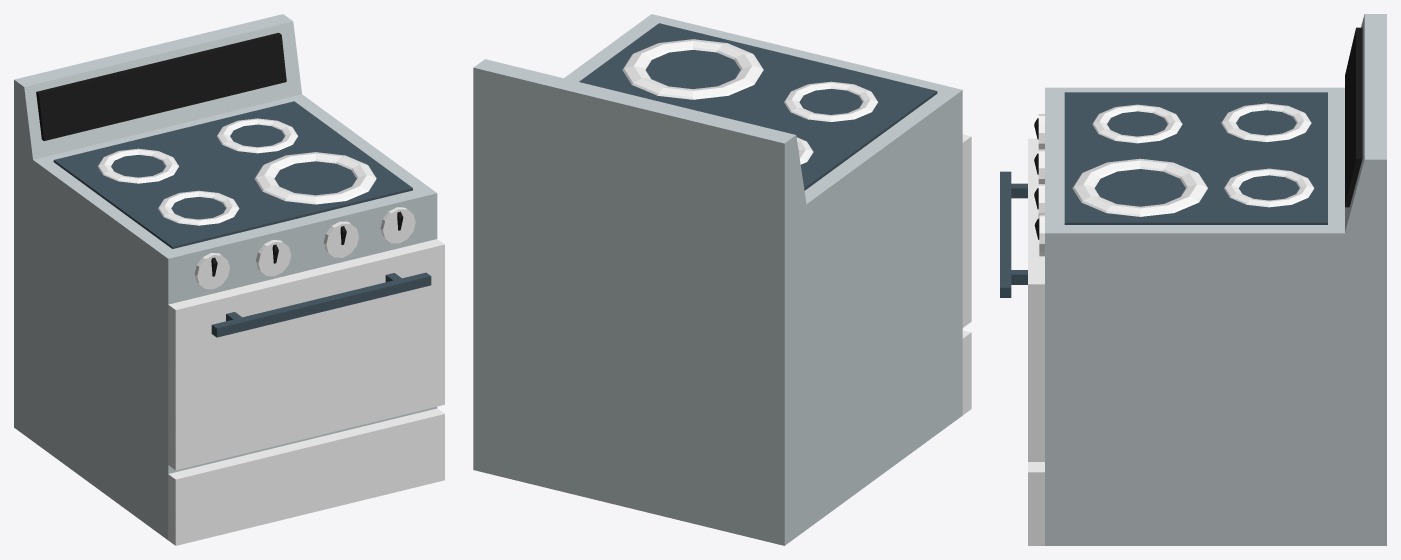
The model's file is Oven.glb.
3 renders of one model, left to right at view 1: azimuth 30°, elevation 25°; view 2: azimuth 150°, elevation 25°; view 3: azimuth 270°, elevation 25°, orthographic. The views are drawn at different scales.
Parts seen in each view (by area): view 1: group1415733057, group1395961162, group1533612277, group704919536, group2046340480, group1830656626, group236720505, group486555482, group288566862, group1327729479, group1490617197, group791986895 (+2 smaller); view 2: group1415733057, group1533612277, group236720505, group1395961162, group288566862, group704919536; view 3: group1415733057, group1533612277, group1395961162, group236720505, group2046340480, group1830656626, group486555482, group288566862, group1327729479, group704919536.
Part boxes in pixels (x1,y1,x2,y2): group1415733057: [14, 14, 437, 539]; group1395961162: [168, 239, 444, 470]; group1533612277: [53, 101, 412, 248]; group704919536: [168, 408, 444, 545]; group2046340480: [36, 32, 286, 140]; group1830656626: [211, 272, 431, 337]; group236720505: [254, 152, 376, 204]; group486555482: [97, 148, 178, 183]; group288566862: [158, 190, 239, 225]; group1327729479: [217, 118, 297, 153]; group1490617197: [323, 221, 358, 257]; group791986895: [194, 253, 229, 289]; group1415733057: [473, 14, 962, 545]; group1533612277: [579, 23, 937, 190]; group236720505: [622, 39, 763, 99]; group1395961162: [962, 134, 971, 327]; group288566862: [784, 81, 877, 121]; group704919536: [962, 330, 971, 415]; group1415733057: [1045, 14, 1386, 545]; group1533612277: [1064, 92, 1327, 224]; group1395961162: [1028, 138, 1044, 461]; group236720505: [1072, 158, 1207, 216]; group2046340480: [1345, 27, 1362, 207]; group1830656626: [1000, 171, 1027, 297]; group486555482: [1221, 103, 1311, 142]; group288566862: [1092, 104, 1182, 143]; group1327729479: [1224, 168, 1314, 207]; group704919536: [1028, 462, 1044, 545].
Size of the model in its own units: 1.23 by 1.52 by 1.38.
